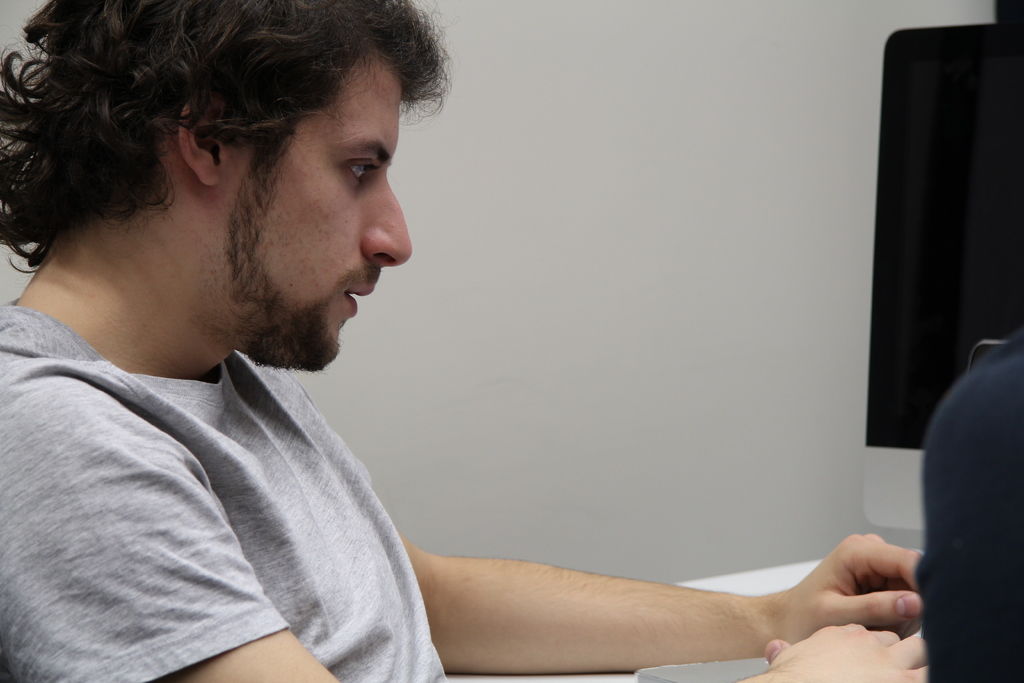Human_hand: (742, 543, 947, 664), (739, 621, 931, 682)
